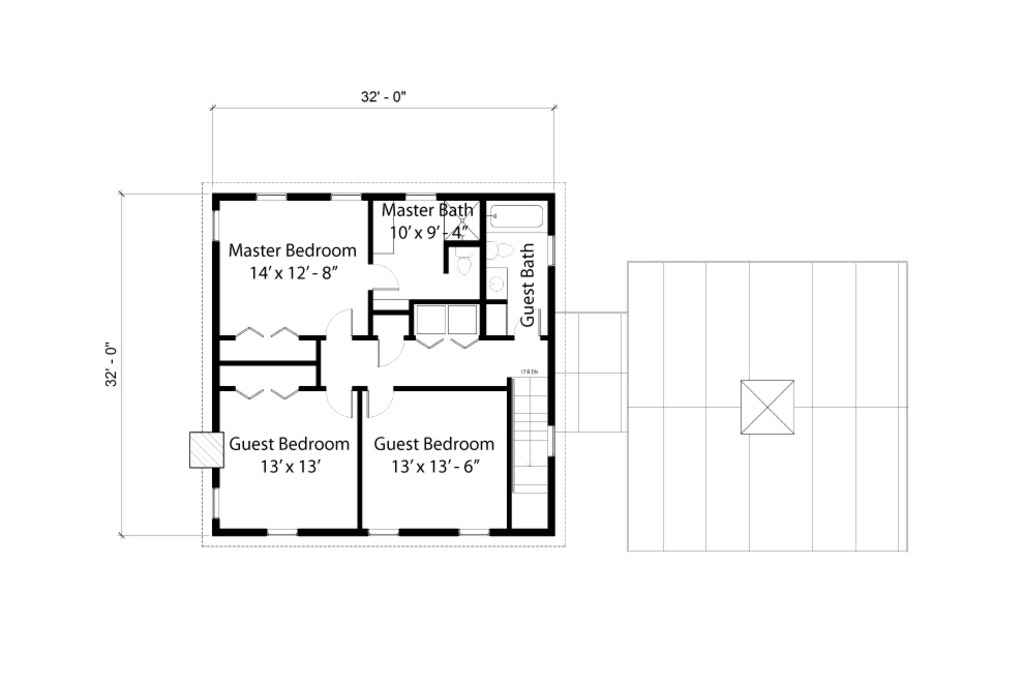door: (323, 305, 359, 341), (318, 386, 356, 420), (363, 258, 400, 292), (375, 336, 406, 370), (365, 385, 396, 418)
large_sink: (451, 244, 478, 278), (485, 239, 516, 263)
small_sink: (483, 268, 509, 302)
stairs: (506, 368, 549, 529)
tub: (485, 199, 552, 235)
windows: (252, 189, 292, 204), (262, 524, 302, 539), (327, 190, 365, 205), (450, 524, 496, 536), (402, 191, 441, 205), (363, 528, 401, 539)
